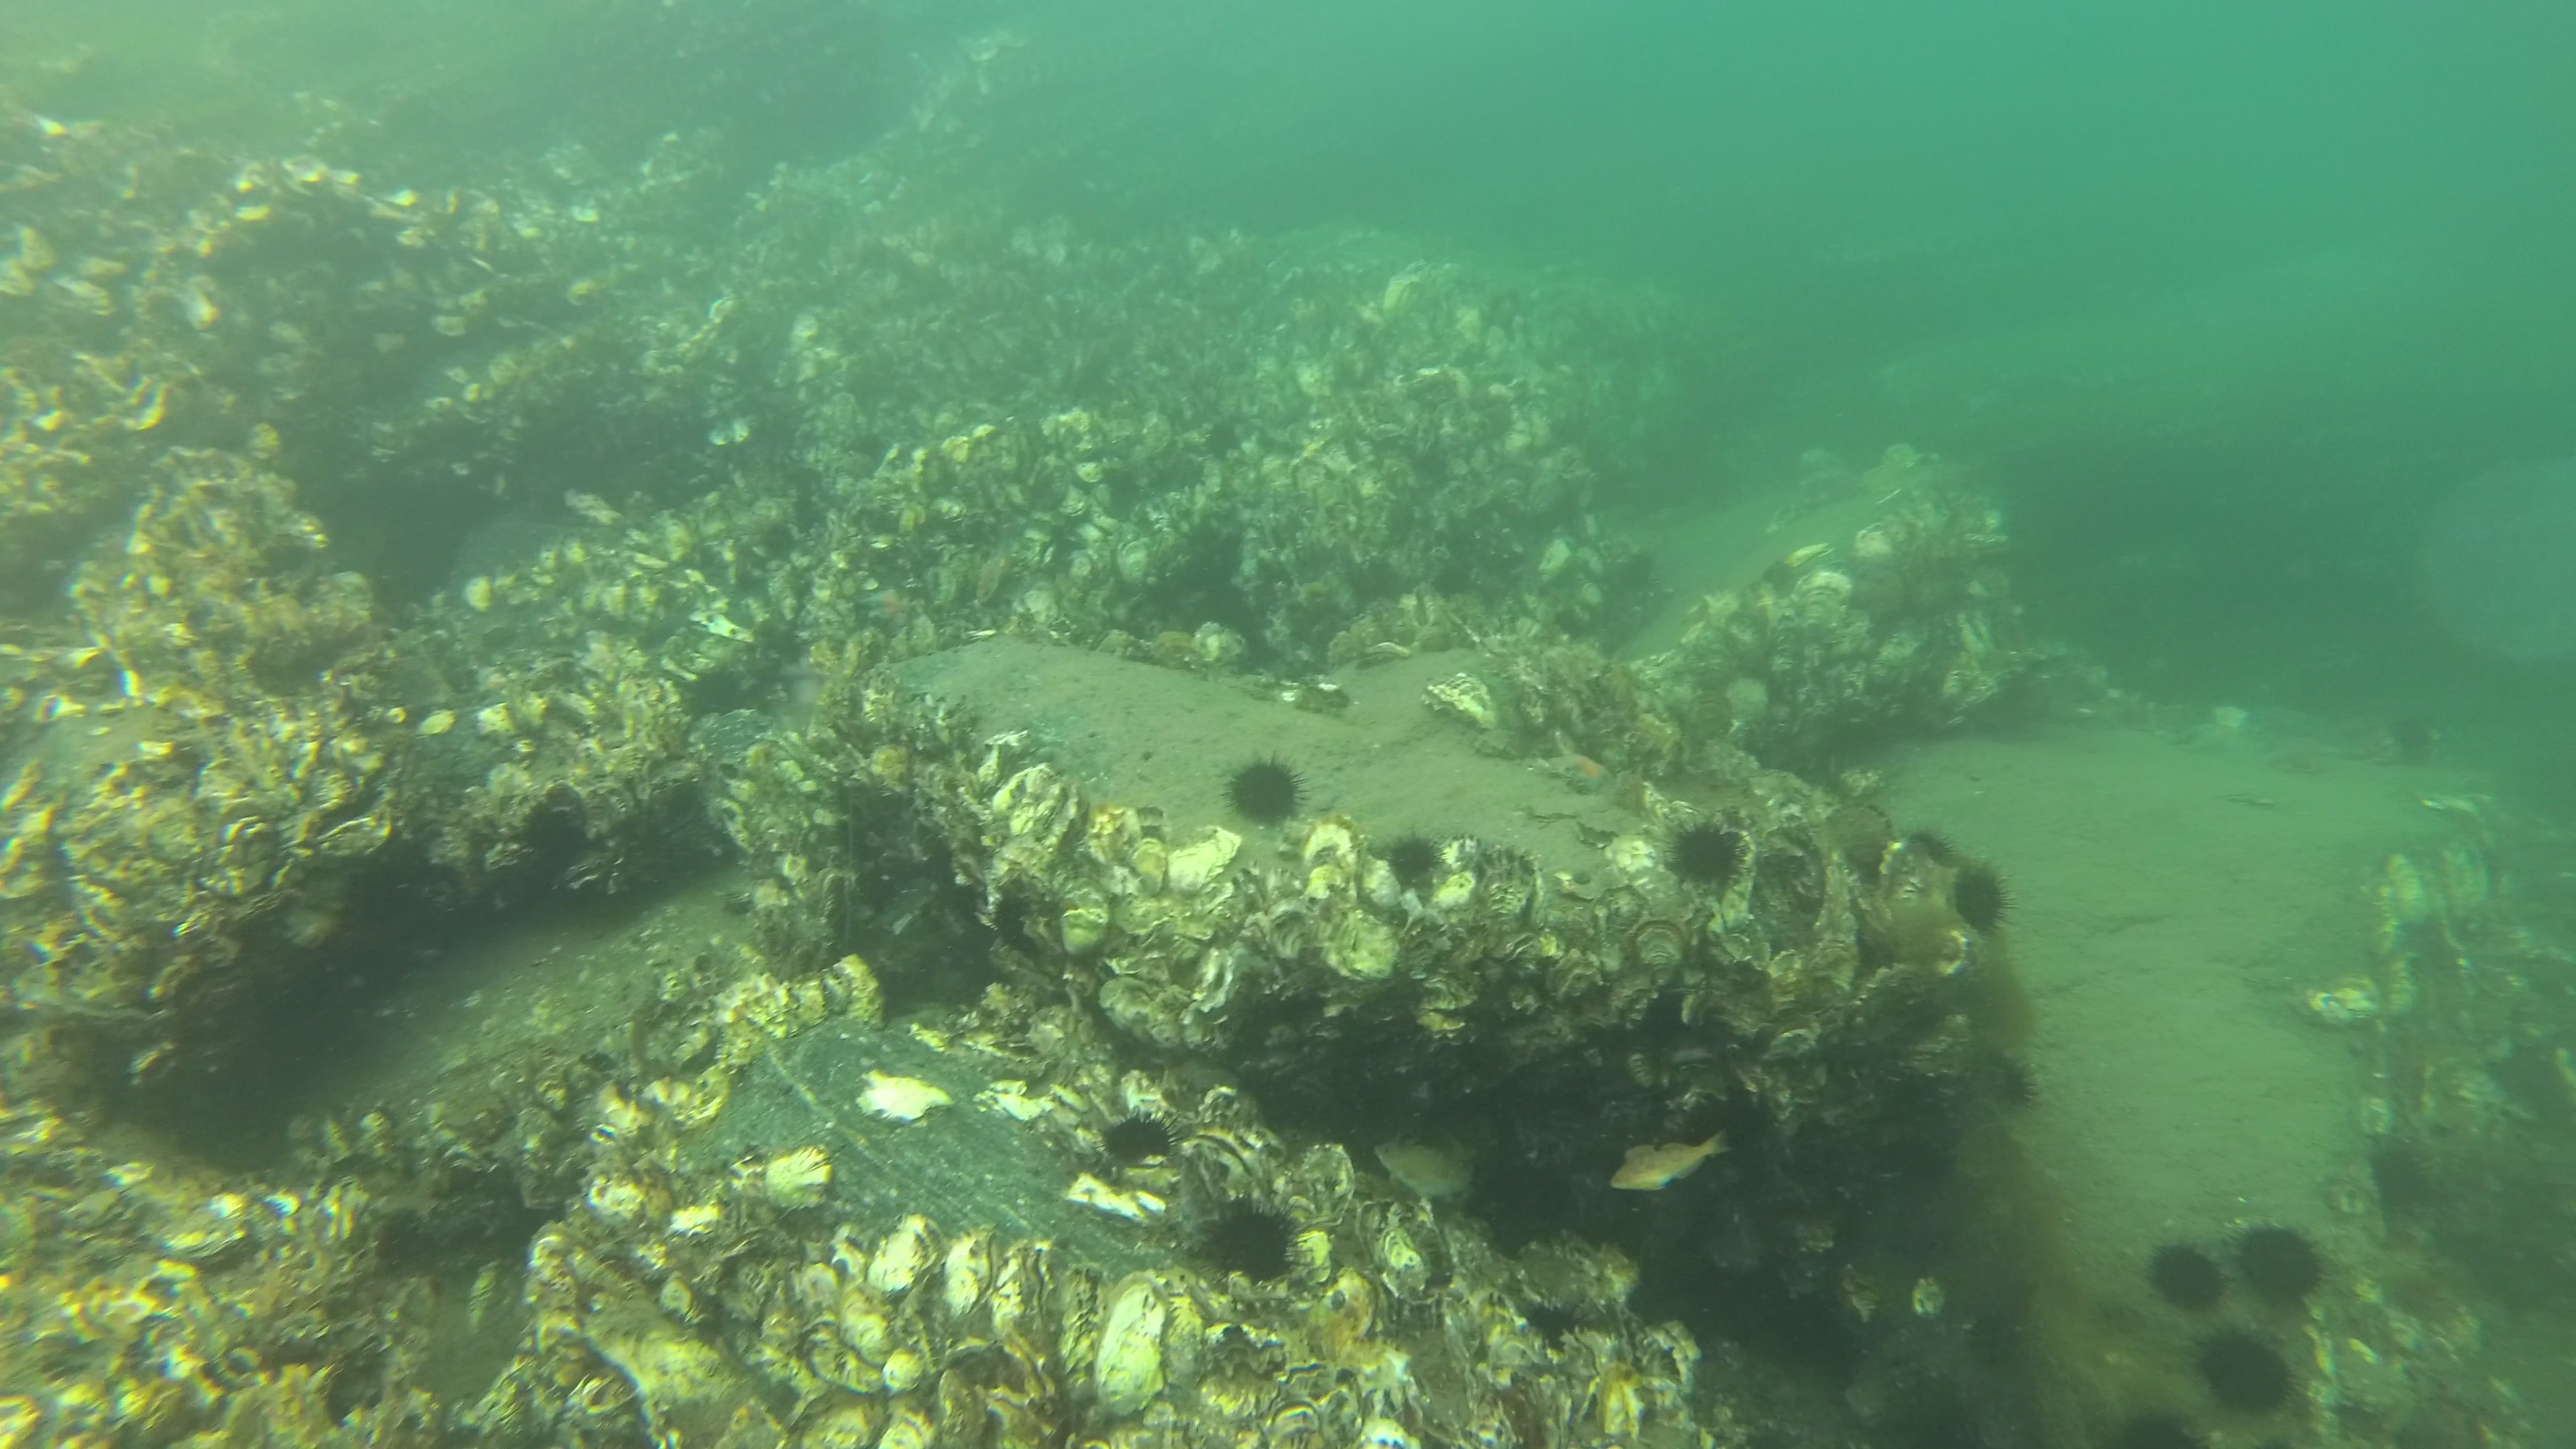echinus: (2227, 1214, 2332, 1315), (1201, 1196, 1307, 1295), (2194, 1336, 2304, 1421), (1665, 810, 1752, 897), (1223, 747, 1313, 830), (2146, 1238, 2229, 1318), (1948, 862, 2020, 941), (1092, 1109, 1185, 1166), (1982, 1040, 2043, 1116), (1376, 828, 1451, 890)
starfish: (1541, 745, 1619, 794)
